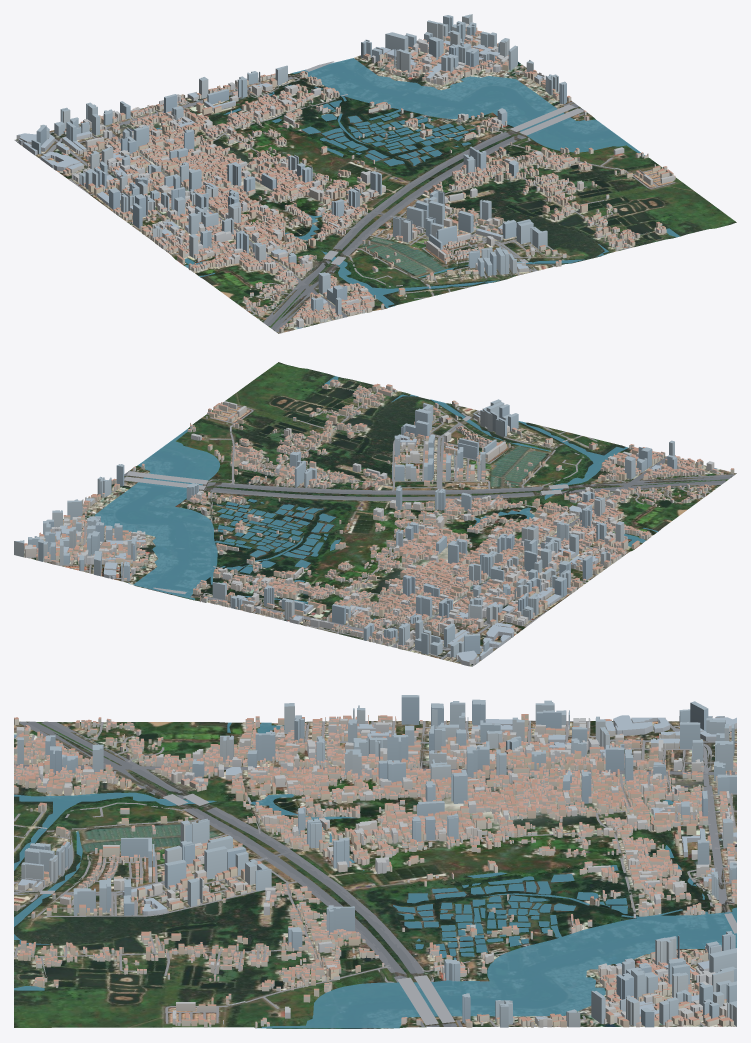
The picture shows the model from 3 angles, top to bottom: view 1: azimuth 30°, elevation 25°; view 2: azimuth 150°, elevation 25°; view 3: azimuth 270°, elevation 25°; orthographic projection. The views are drawn at different scales.
Visible parts, largest first — view 1: TERRAIN, BLDG_MODERN_TOWER, BLDG_SHOPHOUSE, BLDG_TUBE_HOUSE, WATER, ROAD_METRO, BLDG_APARTMENT, BLDG_INDUSTRIAL_PORT; view 2: TERRAIN, BLDG_MODERN_TOWER, BLDG_SHOPHOUSE, BLDG_TUBE_HOUSE, WATER, ROAD_METRO, BLDG_APARTMENT, BLDG_INDUSTRIAL_PORT; view 3: TERRAIN, BLDG_MODERN_TOWER, BLDG_SHOPHOUSE, BLDG_TUBE_HOUSE, WATER, ROAD_METRO, BLDG_APARTMENT, BLDG_INDUSTRIAL_PORT.
Part boxes in pixels (box(x1,y1,x2,y2)): TERRAIN: box(15, 46, 736, 333); BLDG_MODERN_TOWER: box(31, 14, 566, 315); BLDG_SHOPHOUSE: box(65, 27, 673, 333); BLDG_TUBE_HOUSE: box(63, 34, 675, 328); WATER: box(156, 58, 679, 307); ROAD_METRO: box(14, 49, 674, 332); BLDG_APARTMENT: box(71, 23, 674, 327); BLDG_INDUSTRIAL_PORT: box(16, 40, 544, 304); TERRAIN: box(24, 362, 736, 666); BLDG_MODERN_TOWER: box(14, 399, 677, 657); BLDG_SHOPHOUSE: box(24, 379, 734, 644); BLDG_TUBE_HOUSE: box(36, 379, 723, 660); WATER: box(95, 376, 658, 619); ROAD_METRO: box(26, 387, 734, 666); BLDG_APARTMENT: box(25, 401, 714, 648); BLDG_INDUSTRIAL_PORT: box(55, 410, 661, 666); TERRAIN: box(14, 720, 736, 1028); BLDG_MODERN_TOWER: box(17, 695, 736, 1027); BLDG_SHOPHOUSE: box(14, 714, 736, 1027); BLDG_TUBE_HOUSE: box(14, 716, 736, 1028); WATER: box(14, 722, 736, 1028); ROAD_METRO: box(14, 720, 736, 1026); BLDG_APARTMENT: box(16, 718, 736, 1027); BLDG_INDUSTRIAL_PORT: box(18, 715, 736, 1027).
Size of the model in its own units: 2000 by 92.11 by 2000.
Materials: 8 (1 with a texture image).
